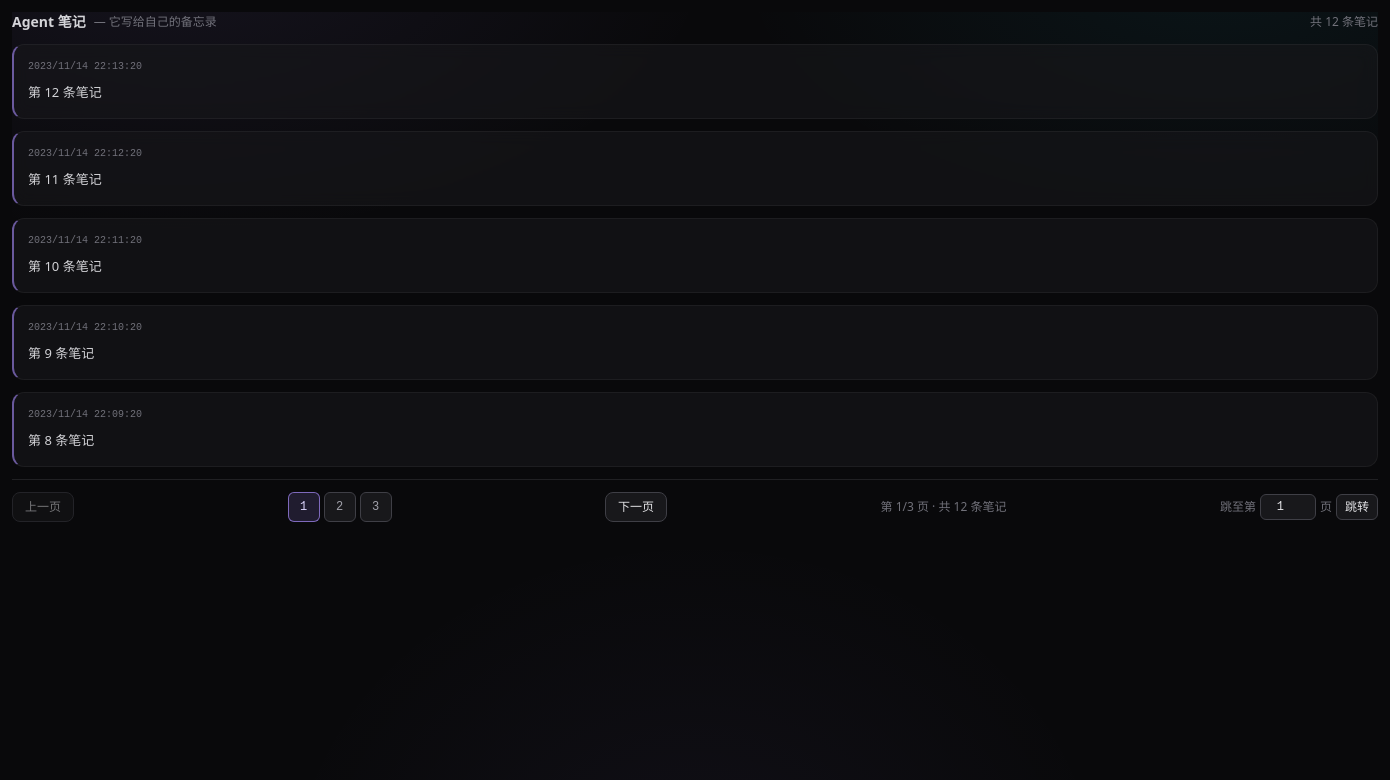
Test: NotesPanel(Agent 笔记) › 非法跳转保留当前页且不发起额外请求
Expected: the text "第 12 条笔记" is shown, [28,83,102,101]
Replace the text in the number field named "跳转到第几页笔记" with "4": (1288, 507) [1260,494,1316,520]
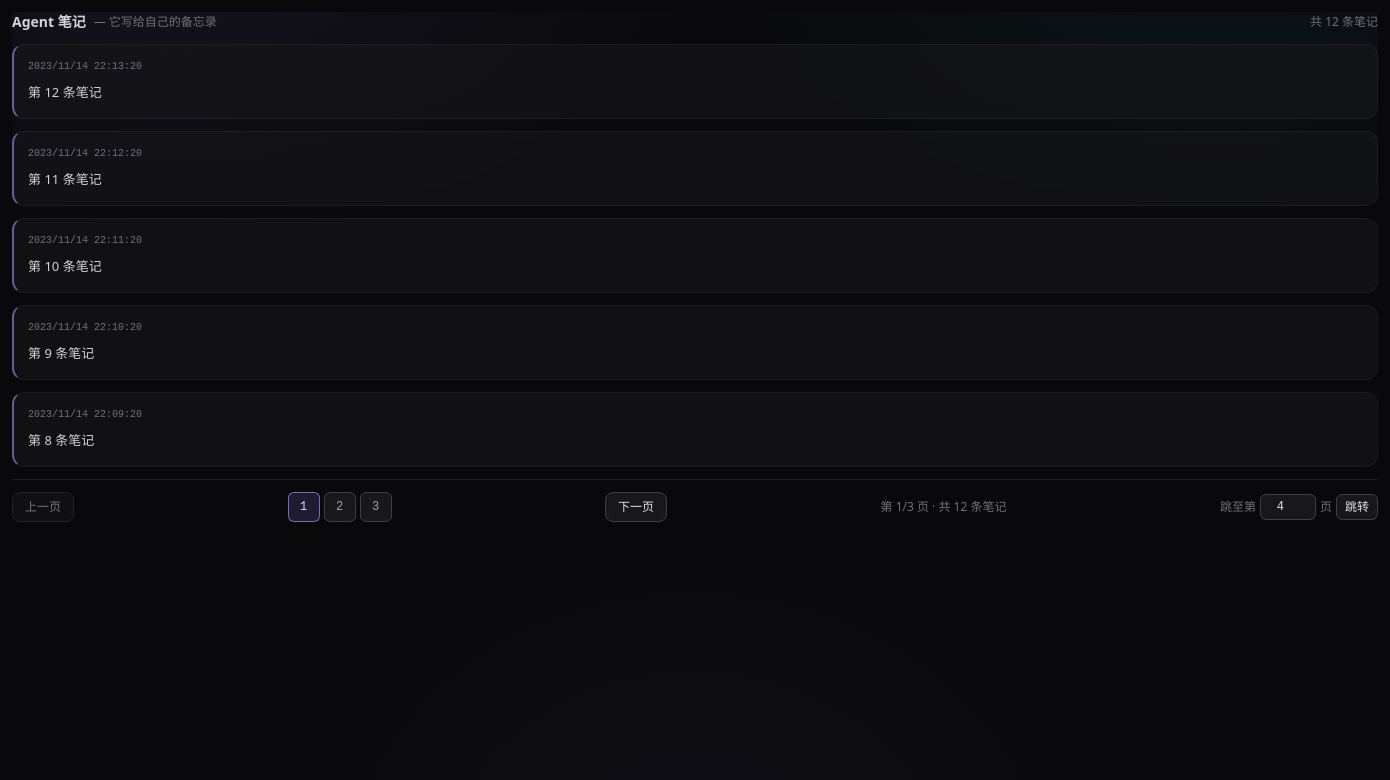
Click the button "跳转": (1357, 507) [1336,494,1378,520]
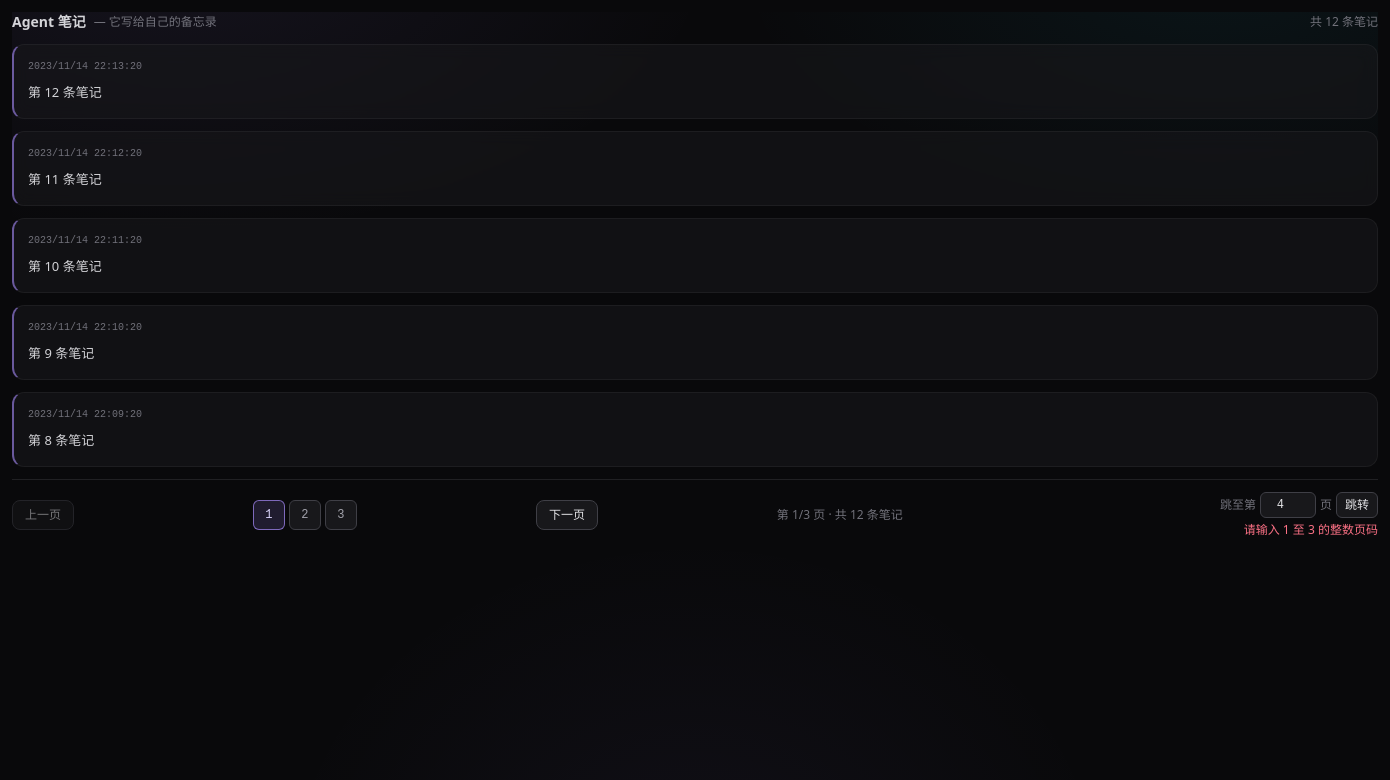
Expected: the text "第 12 条笔记" is shown, [28,83,102,101]
Expected: the message reads "请输入 1 至 3 的整数页码", [1244,521,1378,538]
